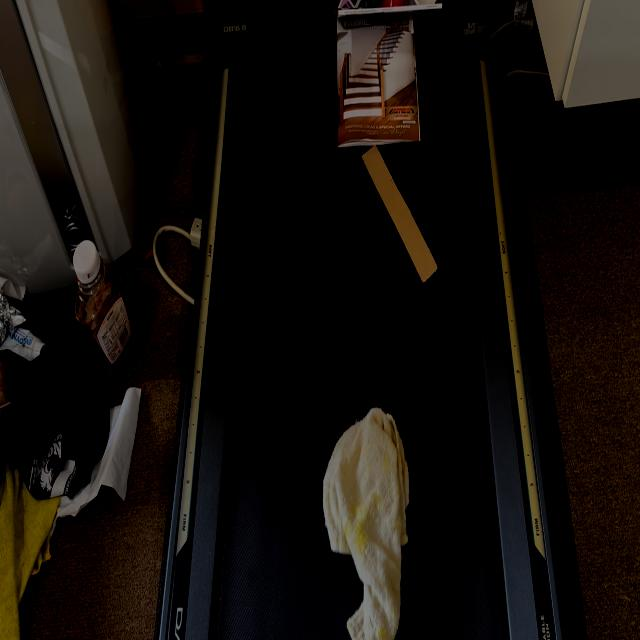Recycle: (328, 0, 444, 140)
Trash: (324, 409, 416, 640), (363, 150, 441, 282)
